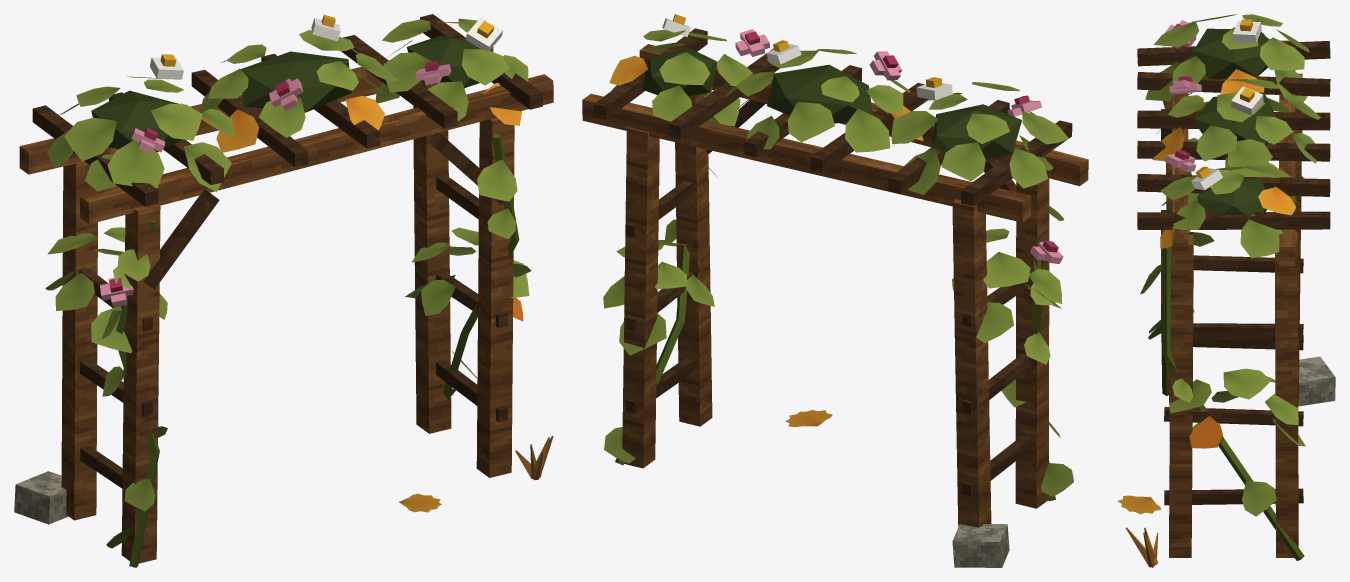
File: decor_arch.glb
The picture shows the model from 3 angles, left to right: view 1: azimuth 30°, elevation 25°; view 2: azimuth 150°, elevation 25°; view 3: azimuth 270°, elevation 25°; orthographic projection. The views are drawn at different scales.
Visible parts, largest first — view 1: decor_arch; view 2: decor_arch; view 3: decor_arch.
Part boxes in pixels (bbox=[...]): decor_arch: bbox=[14, 14, 553, 567]; decor_arch: bbox=[582, 14, 1088, 567]; decor_arch: bbox=[1117, 14, 1335, 567].
Bounding box in the file's own units: 3.58 × 3.39 × 1.63.
Materials: 13 (3 with a texture image).
